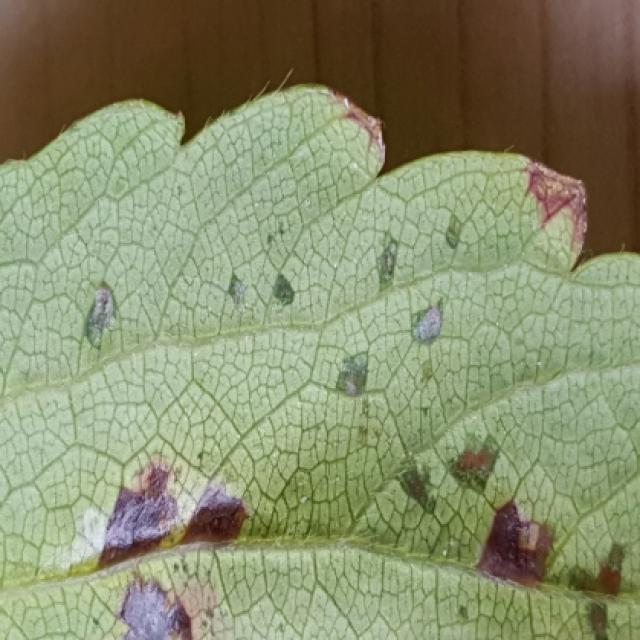Angular Leafspot: (39, 85, 638, 638)
